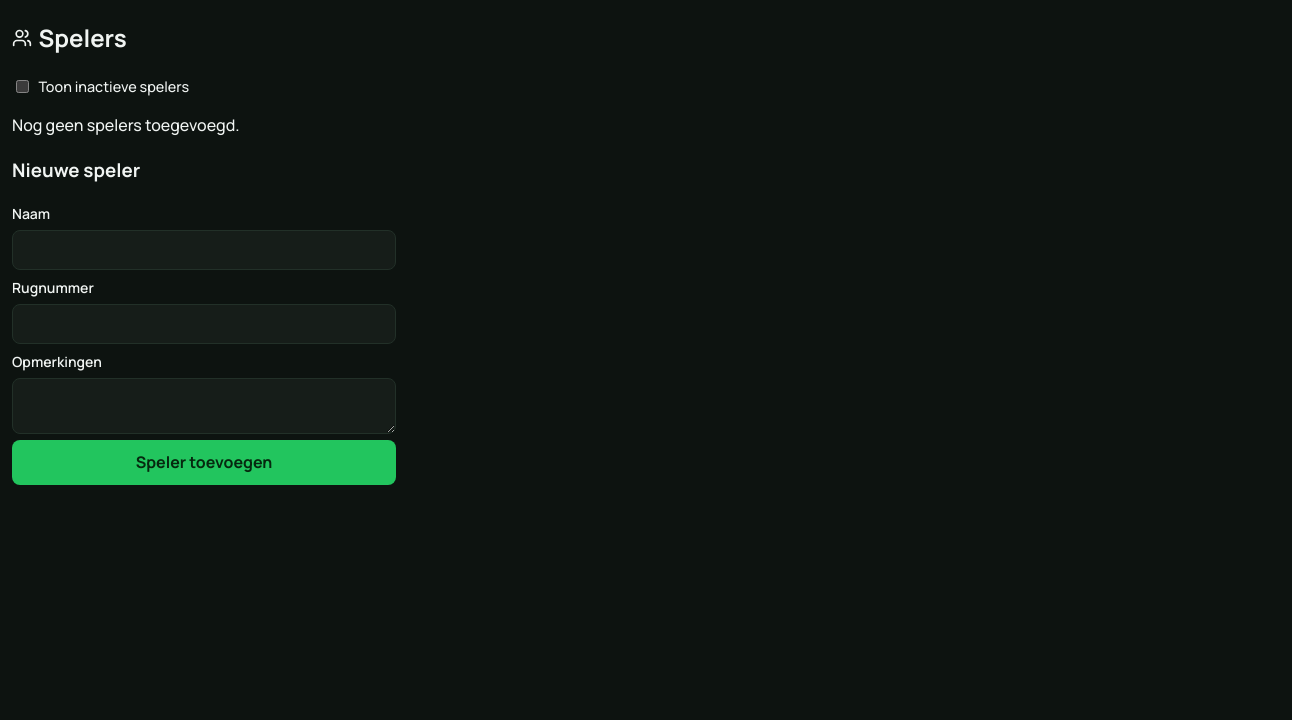
Test: PlayerListScreen › adds a new player and shows it in the active list
Expected: the text "Nog geen spelers toegevoegd." is shown, [12, 114, 240, 136]
Type "Jan Jansen" into the field labelled "Naam" at coordinates (204, 250), box [12, 230, 396, 270]
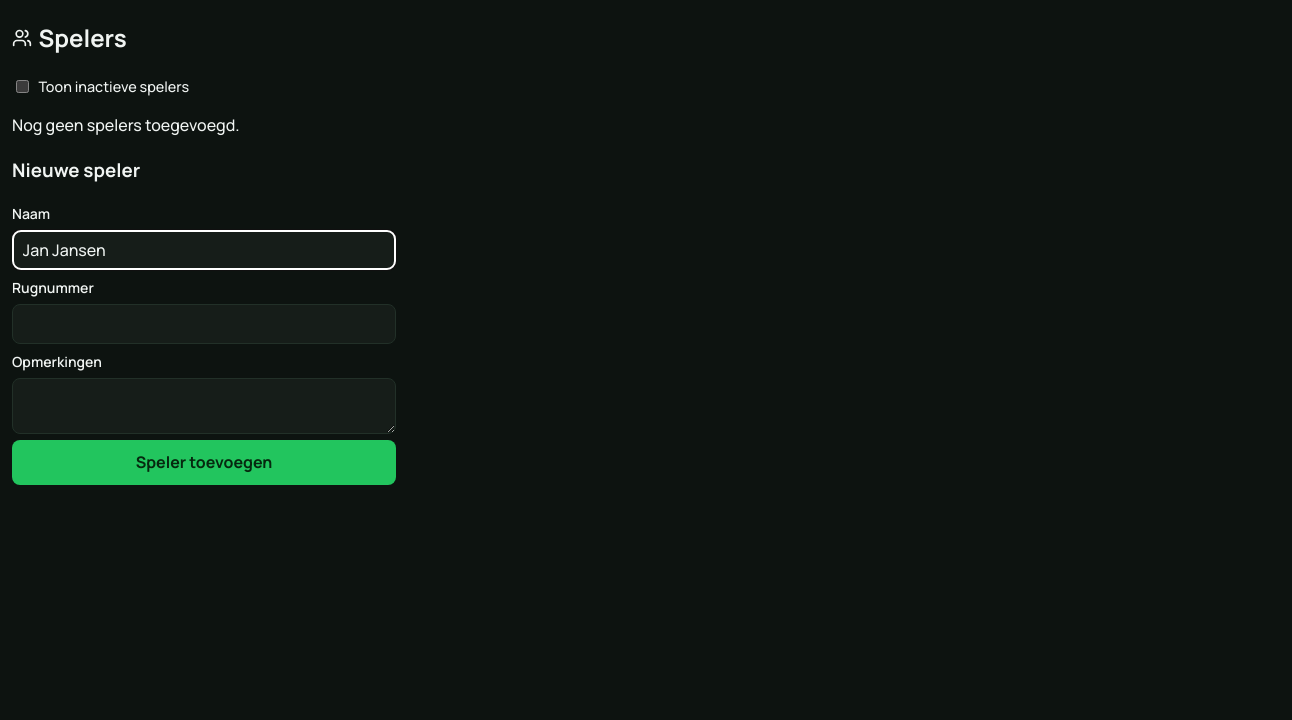
Type "9" into the number field labelled "Rugnummer" at coordinates (204, 324), box [12, 304, 396, 344]
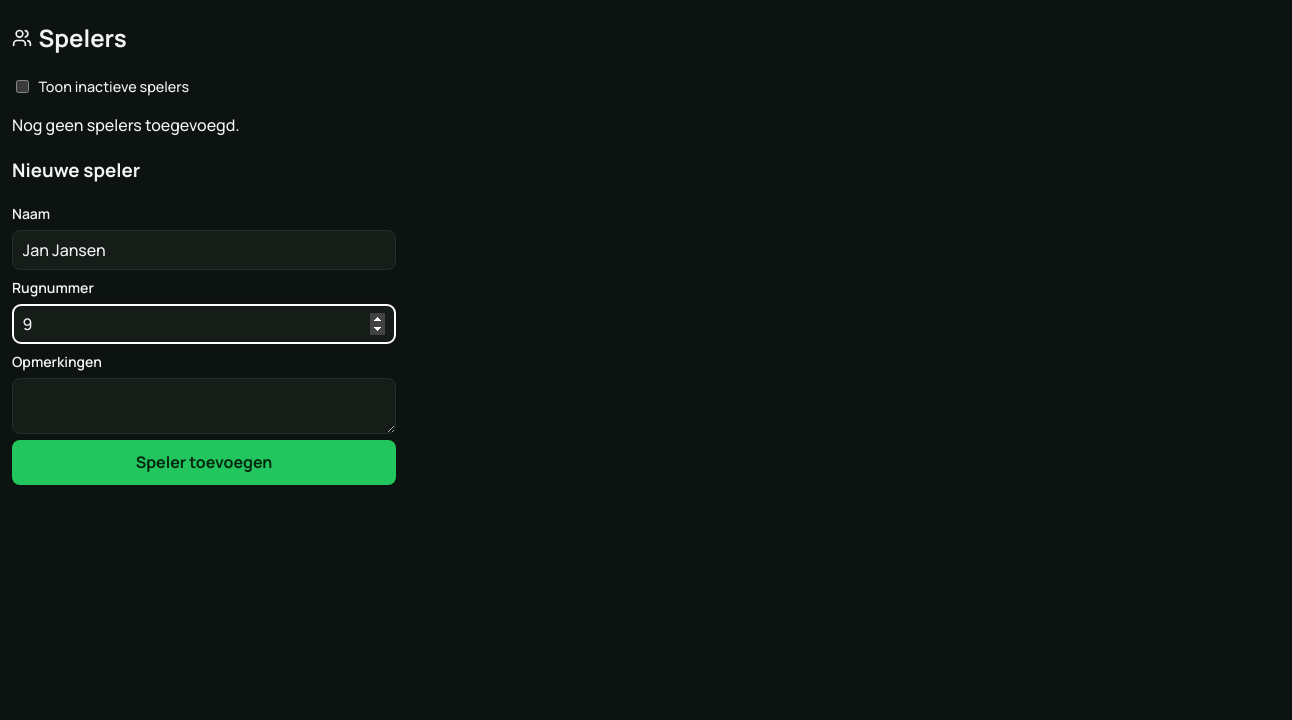
Click the button "Speler toevoegen" at coordinates (204, 462), box [12, 440, 396, 485]
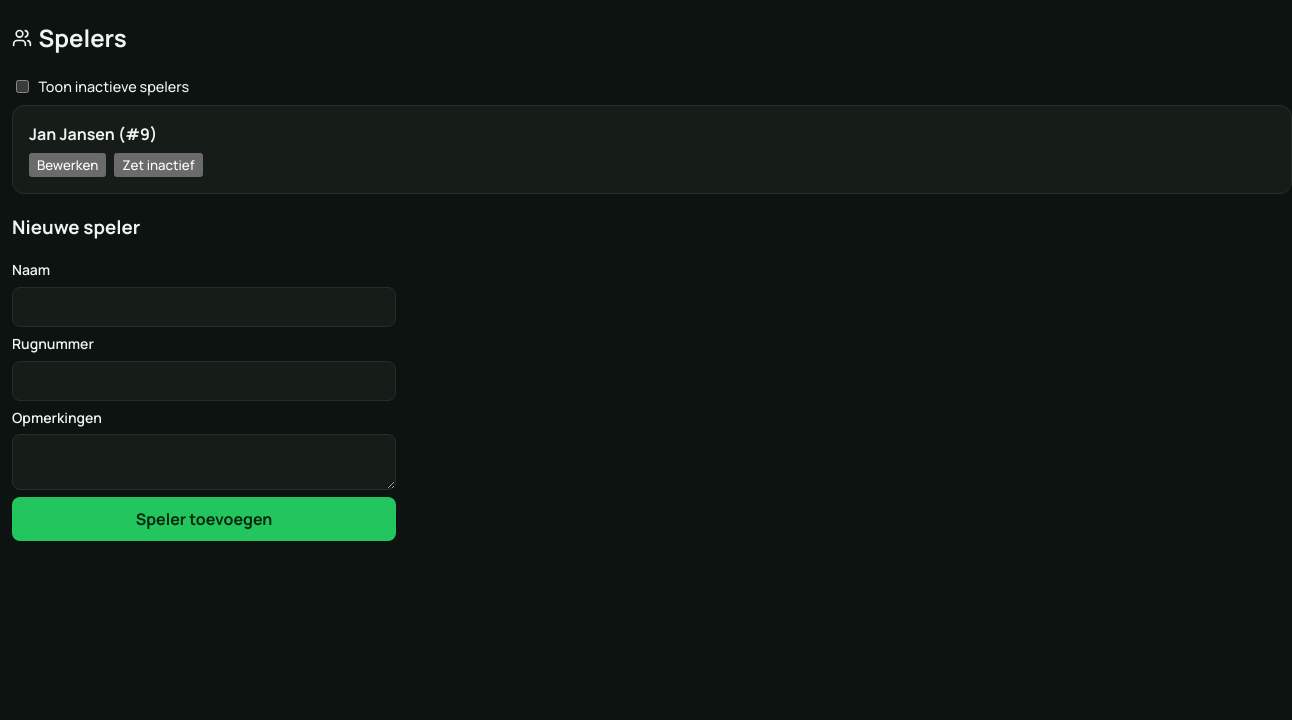
Expected: the text "Jan Jansen (#9)" is shown, [29, 123, 157, 145]
